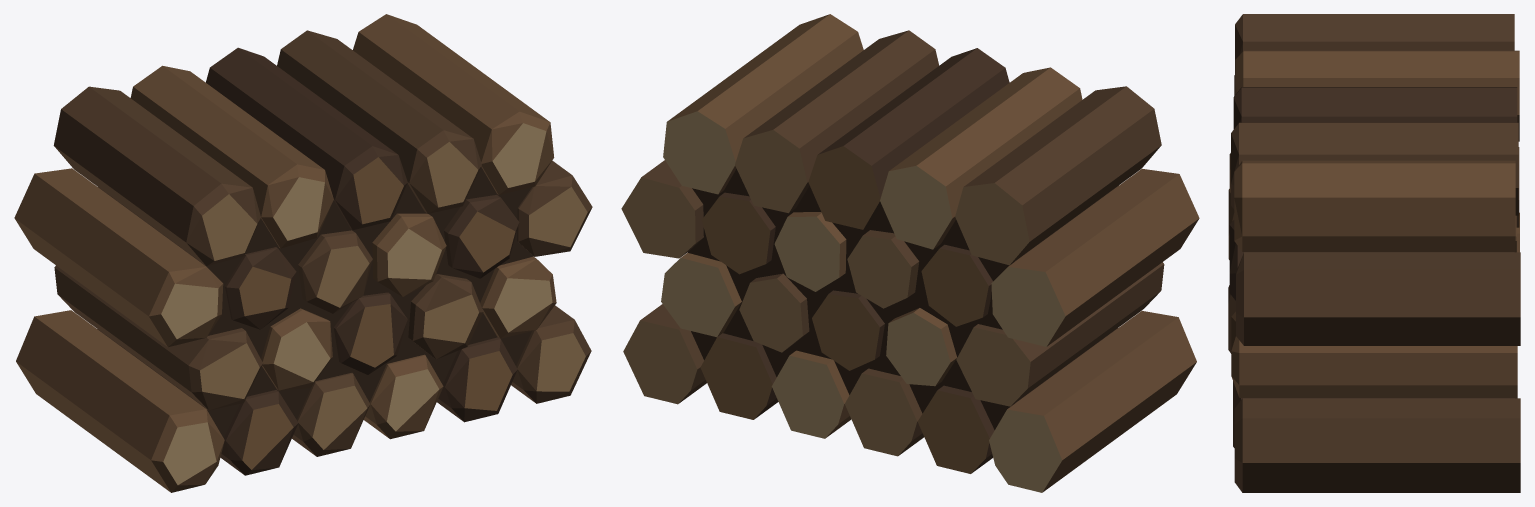
The model's file is firewood-stack-8a2899.glb.
3 renders of one model, left to right at view 1: azimuth 30°, elevation 25°; view 2: azimuth 150°, elevation 25°; view 3: azimuth 270°, elevation 25°, orthographic. The views are drawn at different scales.
Visible parts, largest first — view 1: firewood-stack-logs; view 2: firewood-stack-logs; view 3: firewood-stack-logs.
Part boxes in pixels (x1=…): firewood-stack-logs: x1=14, y1=14, x2=592, y2=492; firewood-stack-logs: x1=621, y1=14, x2=1199, y2=492; firewood-stack-logs: x1=1228, y1=14, x2=1520, y2=492.
Size of the model in its own units: 1.18 by 0.7595 by 0.6584.
